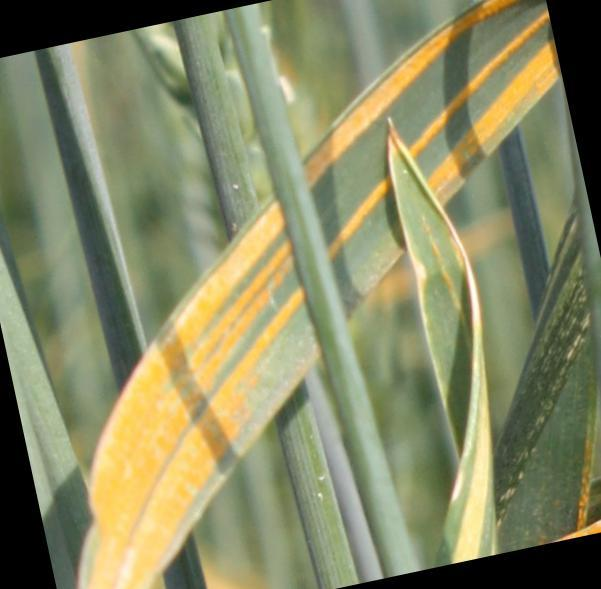Wheat: (95, 211, 315, 559), (381, 5, 551, 199)
